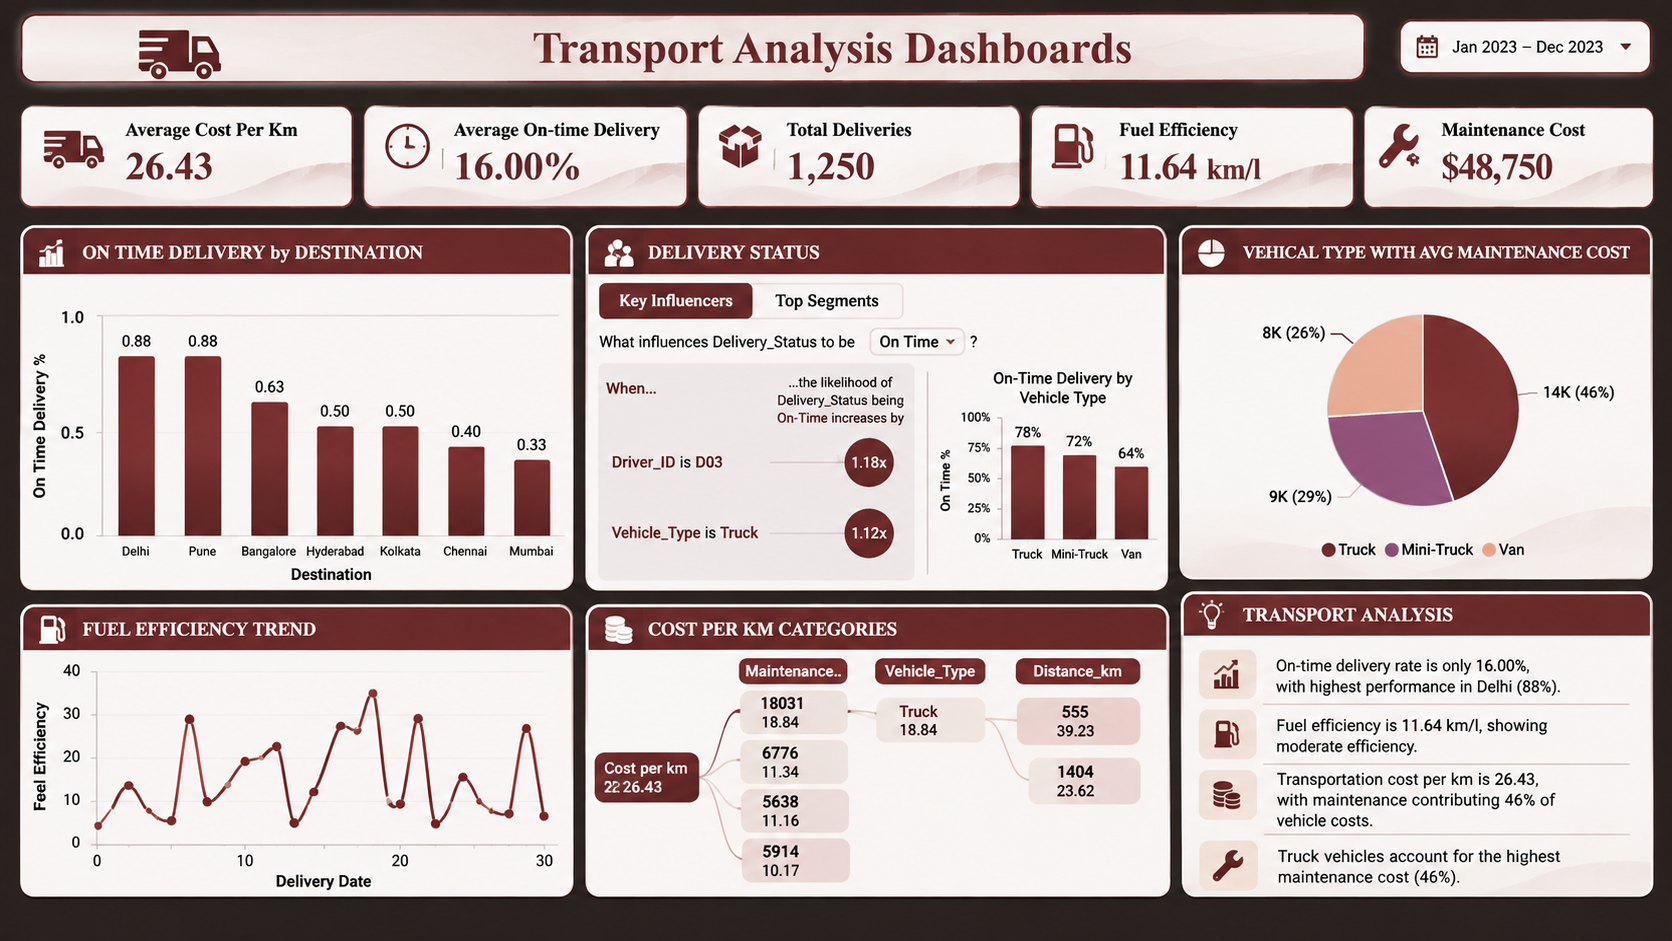

The dashboard page shown, as its layout file describes it:
{"tool":"powerbi","page":{"name":"Page 1","canvas":[1920,1080],"ordinal":0},"visuals":[{"type":"textbox","box":[10.9,0,1909.2,74.2],"z":0},{"type":"cardVisual","title":"Average Cost Per Km","fields":{"Data":["Trip_Data.Avg Costperkm"]},"box":[27.6,104.7,257.3,143.3],"z":1000},{"type":"cardVisual","title":"Average On time Delivery","fields":{"Data":["Trip_Data.Avg ontimedelivery"]},"box":[299.5,104.7,308.7,143.3],"z":2000},{"type":"columnChart","title":"ON TIME DELIVERY by  DESTINATION","fields":{"Category":["Trip_Data.Destination"],"Y":["Trip_Data.On time delivery%"]},"box":[27.6,275.7,580.7,391.4],"z":3000},{"type":"lineChart","title":"FUEL EFFICIENCY TREND","fields":{"Category":["Trip_Data.Delivery_Date.Variation.Date Hierarchy.Day"],"Y":["Sum(Trip_Data.fuel efficiency)"]},"box":[31.2,689.1,577,391.4],"z":4000},{"type":"keyDriversVisual","title":"DELIVERY STATUS","fields":{"ExplainBy":["Vehicle_ID (Vehicle_Master).Vehicle_Type","Trip_Data.Driver_ID","Avg(Trip_Data.Distance_km)"],"Target":["Trip_Data.Delivery_Status"]},"box":[621.1,104.7,749.8,476],"z":5000},{"type":"decompositionTreeVisual","title":"COST PER KM CATEGORIES","fields":{"Analyze":["Trip_Data.Cost per km"],"ExplainBy":["Vehicle_ID (Vehicle_Master).Maintenance_Cost","Vehicle_ID (Vehicle_Master).Vehicle_Type","Trip_Data.Distance_km"]},"box":[621.1,597.2,749.8,483.3],"z":6000},{"type":"textbox","title":"TRANSPORT ANALYSIS","box":[1383.8,540.3,521.9,540.3],"z":7000},{"type":"pieChart","title":"VECHICAL TYPE WITH AVG MAINTENANCE COST","fields":{"Category":["Vehicle_ID (Vehicle_Master).Vehicle_Type"],"Y":["Avg(Vehicle_ID (Vehicle_Master).Maintenance_Cost)"]},"box":[1383.8,104.7,521.9,422.7],"z":8000}]}

Visuals, with their boxes in screenshot pixels (x1, y1, x2, y2), scaled from the page's 1920x1080 canvas onto the 1672x941 screenshot:
textbox: (9, 0, 1671, 65)
"Average Cost Per Km" cardVisual: (24, 91, 248, 216)
"Average On time Delivery" cardVisual: (261, 91, 530, 216)
"ON TIME DELIVERY by  DESTINATION" columnChart: (24, 240, 530, 581)
"FUEL EFFICIENCY TREND" lineChart: (27, 600, 530, 940)
"DELIVERY STATUS" keyDriversVisual: (541, 91, 1194, 506)
"COST PER KM CATEGORIES" decompositionTreeVisual: (541, 520, 1194, 940)
"TRANSPORT ANALYSIS" textbox: (1205, 471, 1660, 940)
"VECHICAL TYPE WITH AVG MAINTENANCE COST" pieChart: (1205, 91, 1660, 460)
